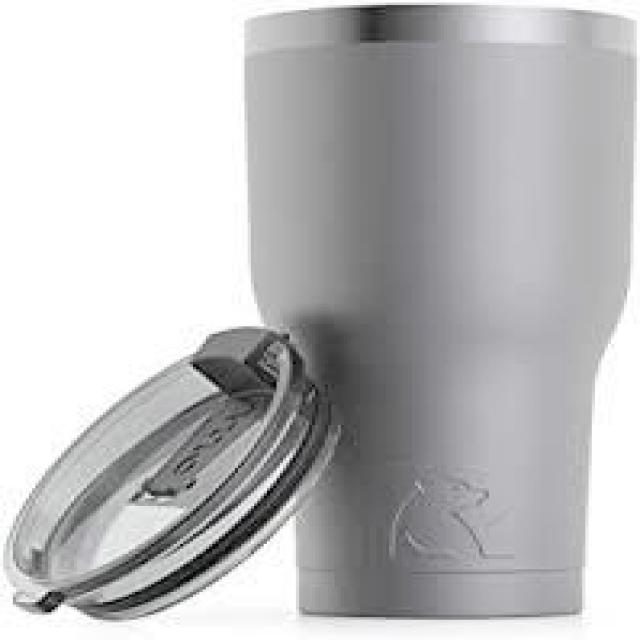bottle: (243, 5, 635, 615)
